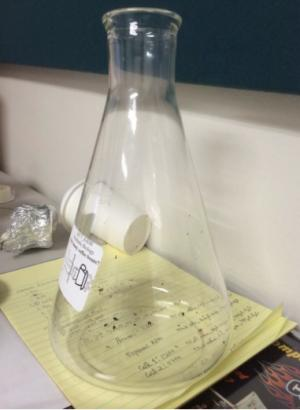Titrarion: (48, 10, 238, 382)
